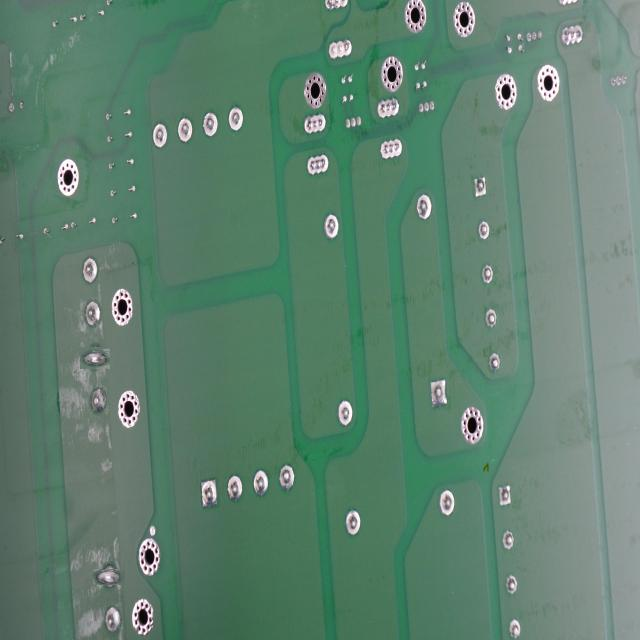slug: (82, 344, 109, 371), (97, 565, 122, 589), (87, 385, 108, 411)
